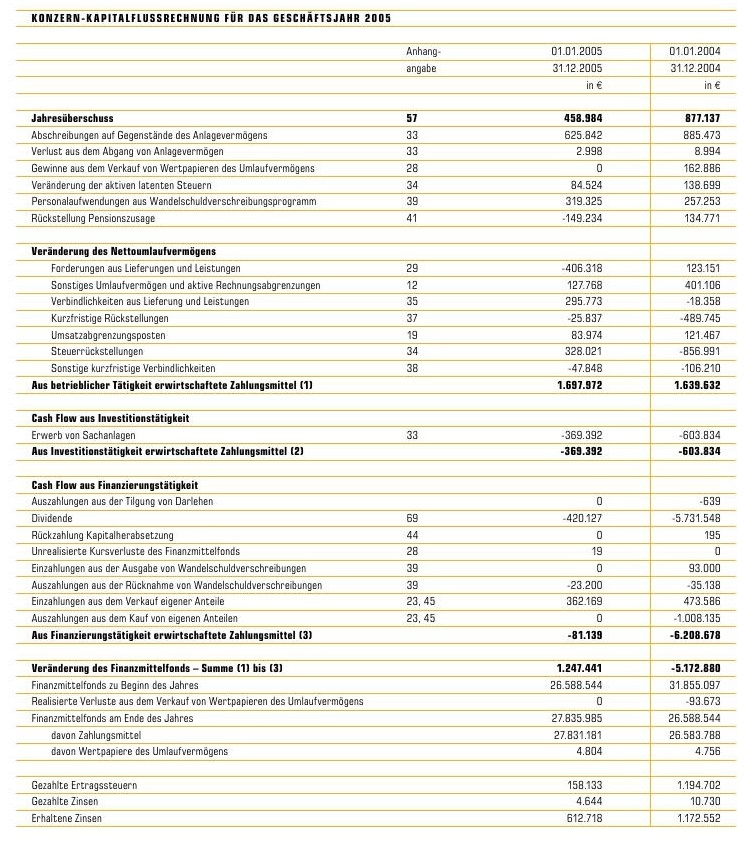table: (0, 0, 746, 841)
